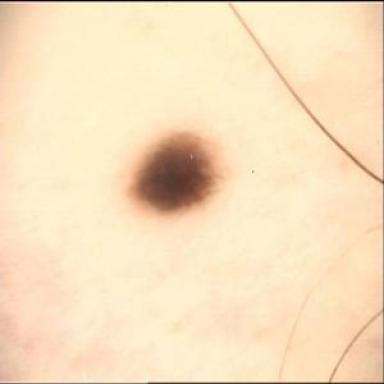Melanoma: (130, 132, 223, 213)
